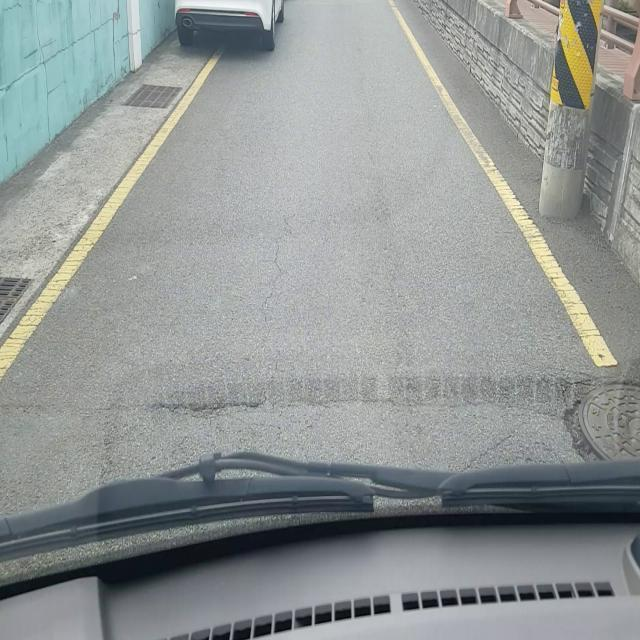pothole: (562, 377, 640, 465)
